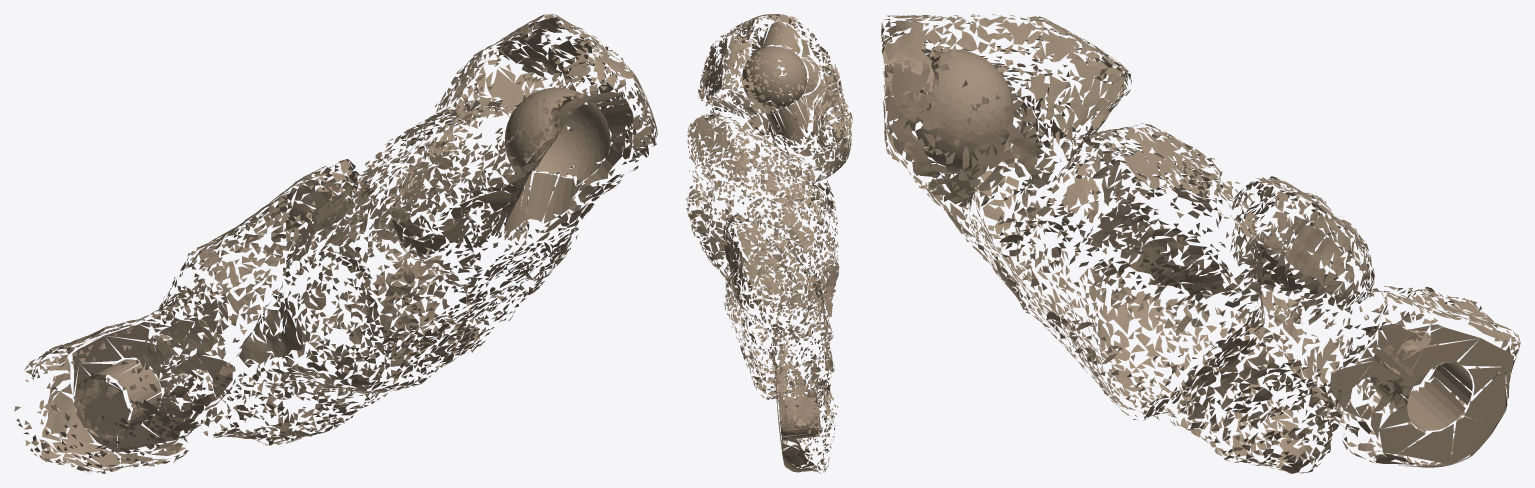
Rendered from rocky_pata_trasera_superior.obj.
3 renders of one model, left to right at view 1: azimuth 30°, elevation 25°; view 2: azimuth 150°, elevation 25°; view 3: azimuth 270°, elevation 25°, orthographic. The views are drawn at different scales.
Size of the model in its own units: 0.2275 by 0.2791 by 0.2686.
Materials: 1 (1 with a texture image).
